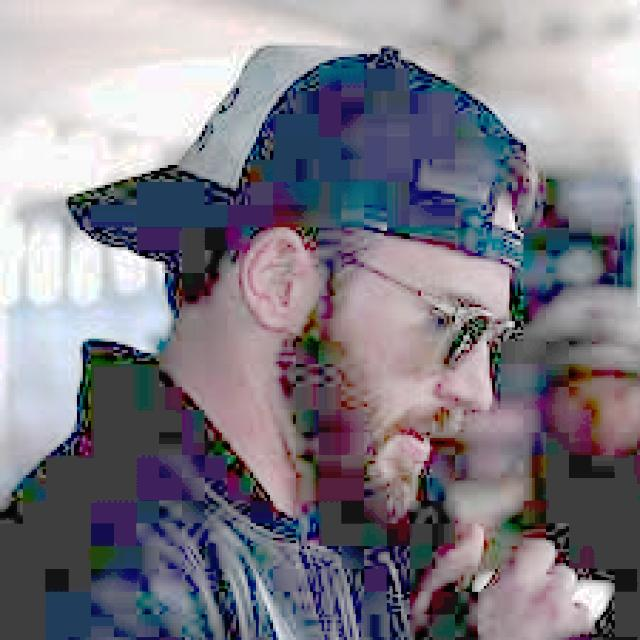TOPI: (57, 34, 540, 285)
